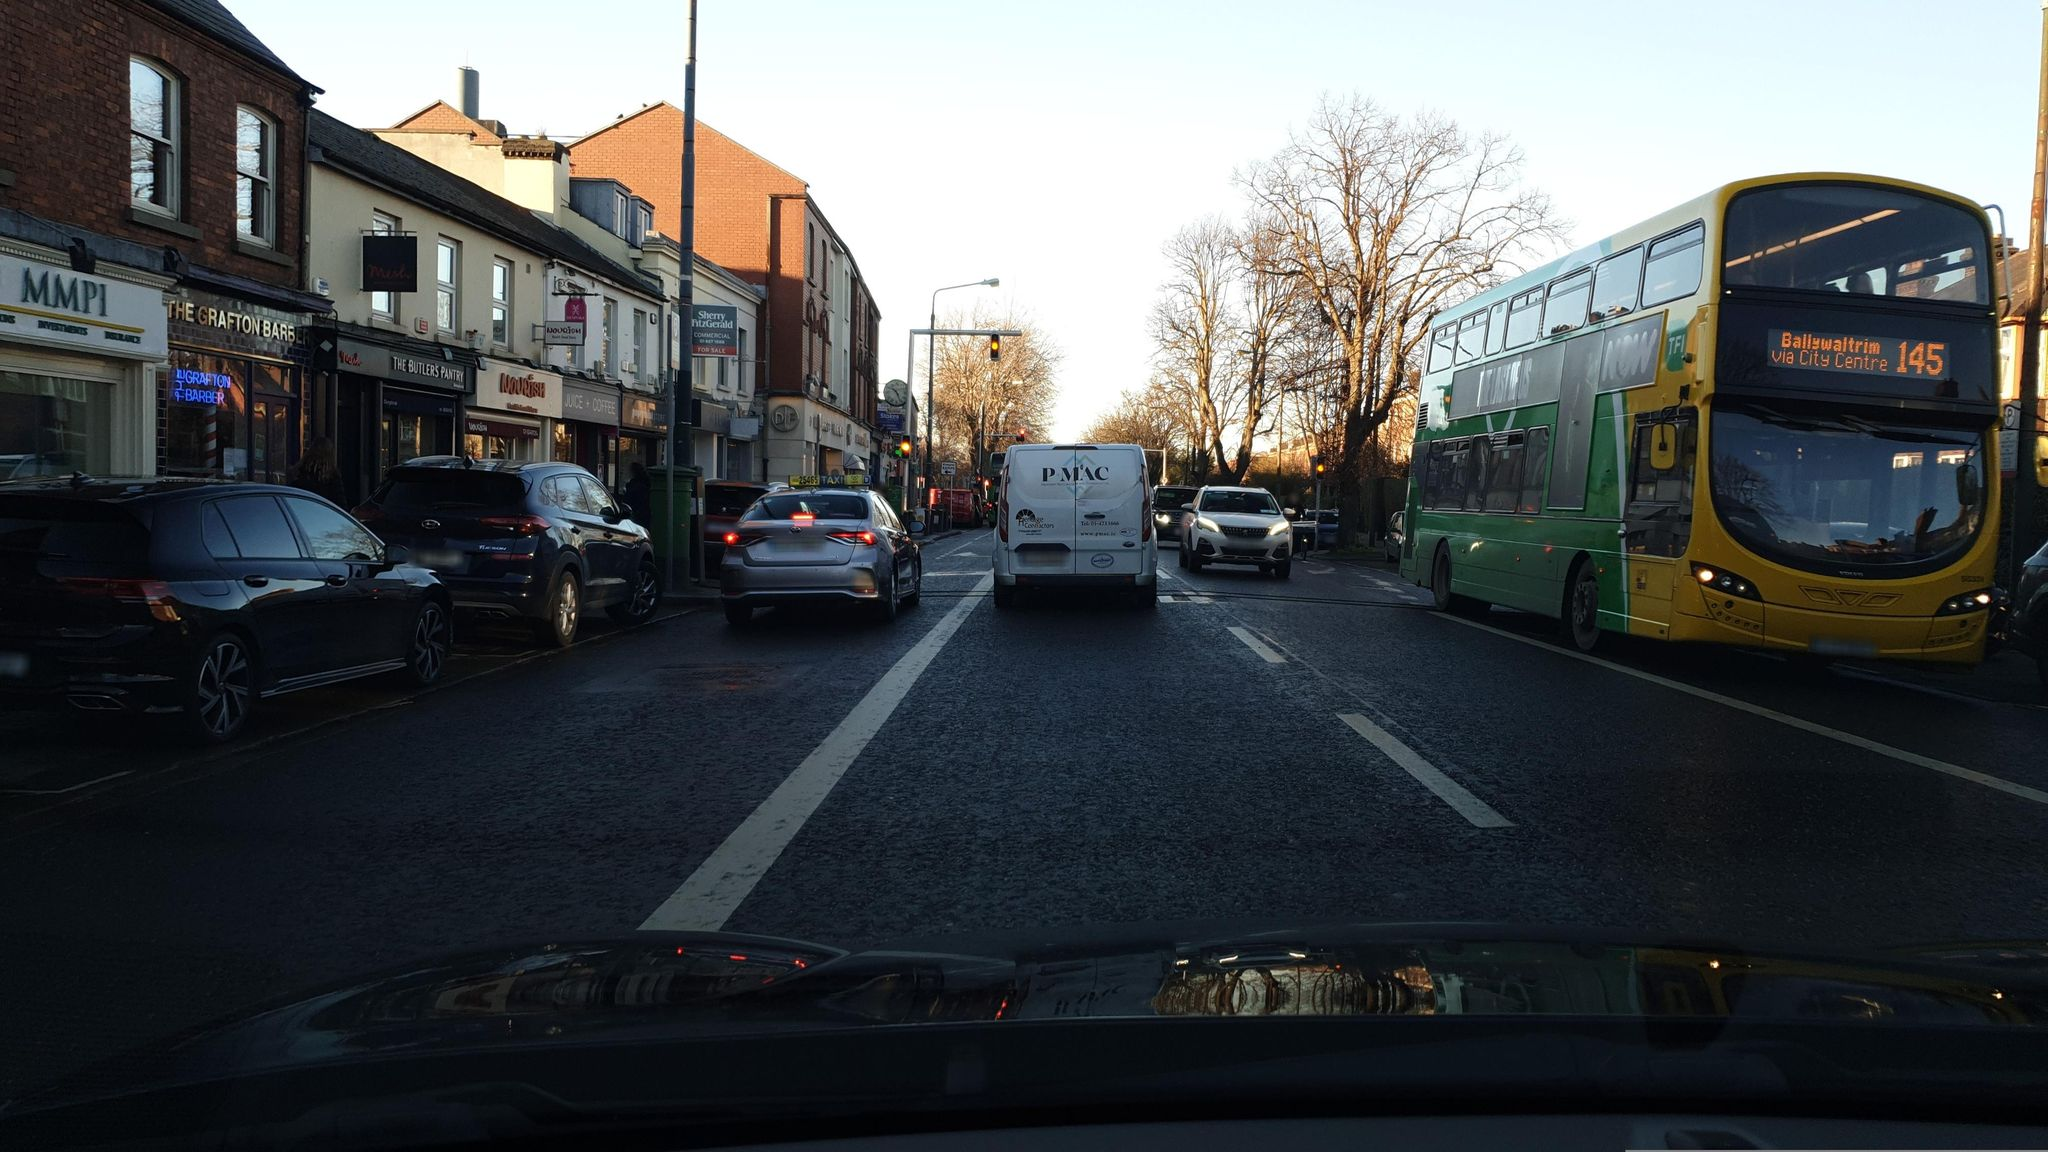property sign: (678, 286, 748, 369)
